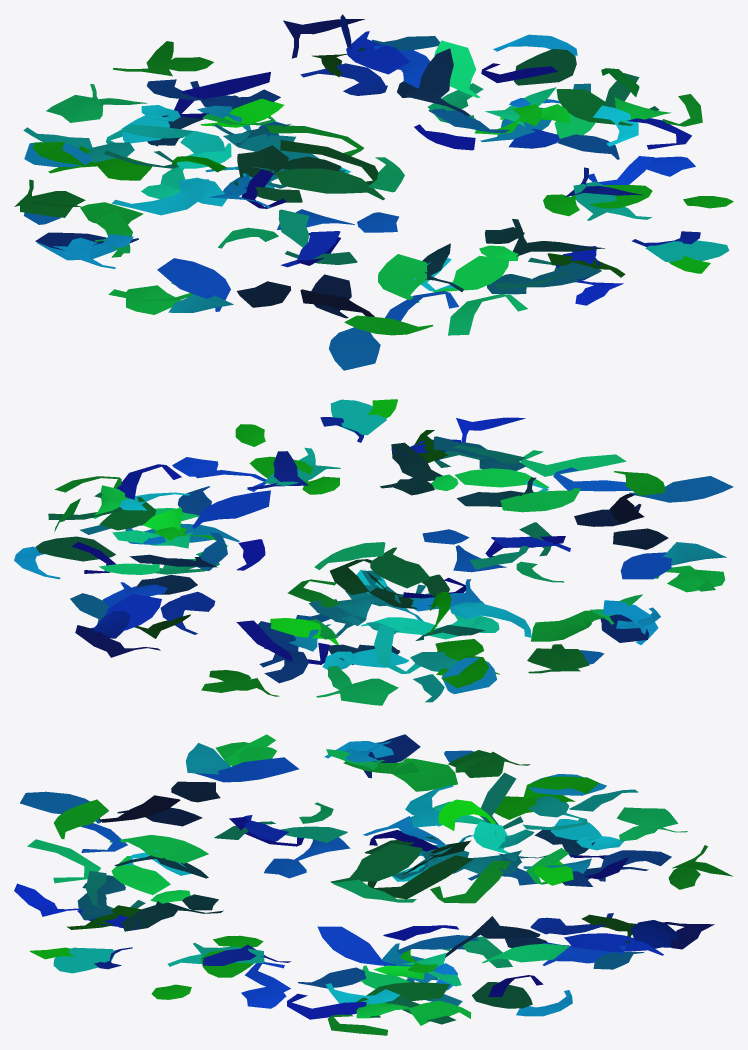
File: Bigleaf_Hydrangea_vgztealha_Mid_vgztealha_VarB_LOD0.fbx
3 renders of one model, top to bottom at view 1: azimuth 30°, elevation 25°; view 2: azimuth 150°, elevation 25°; view 3: azimuth 270°, elevation 25°, orthographic. The views are drawn at different scales.
Parts seen in each view (by area): view 1: _v9k0_VarB_LOD1; view 2: _v9k0_VarB_LOD1; view 3: _v9k0_VarB_LOD1.
Part boxes in pixels (box(x1,y1,x2,y2)): _v9k0_VarB_LOD1: box(14, 14, 733, 370); _v9k0_VarB_LOD1: box(14, 399, 733, 705); _v9k0_VarB_LOD1: box(14, 734, 732, 1035).
Bounding box in the file's own units: 108 × 5.62 × 110.
